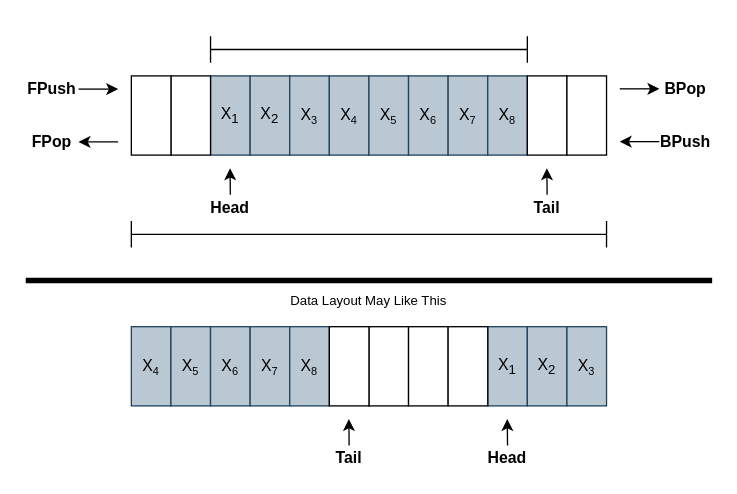
Some shapes in this 737 by 494 pixel diagram are drawn without their labels. The shapes that lost their labels are listed below. From the top down, each one's centre as x and y in pixels, then its label:
At [368,49]: "Dequeue Len".
At [368,234]: "Buffer Size".
